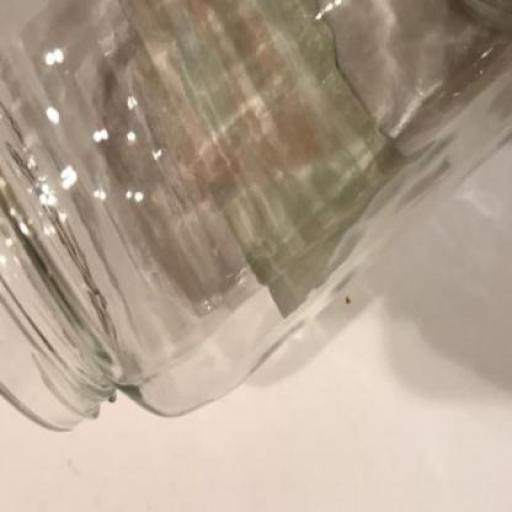glass: (0, 1, 511, 433)
